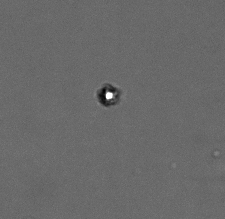Living Cell: (99, 85, 118, 106)
